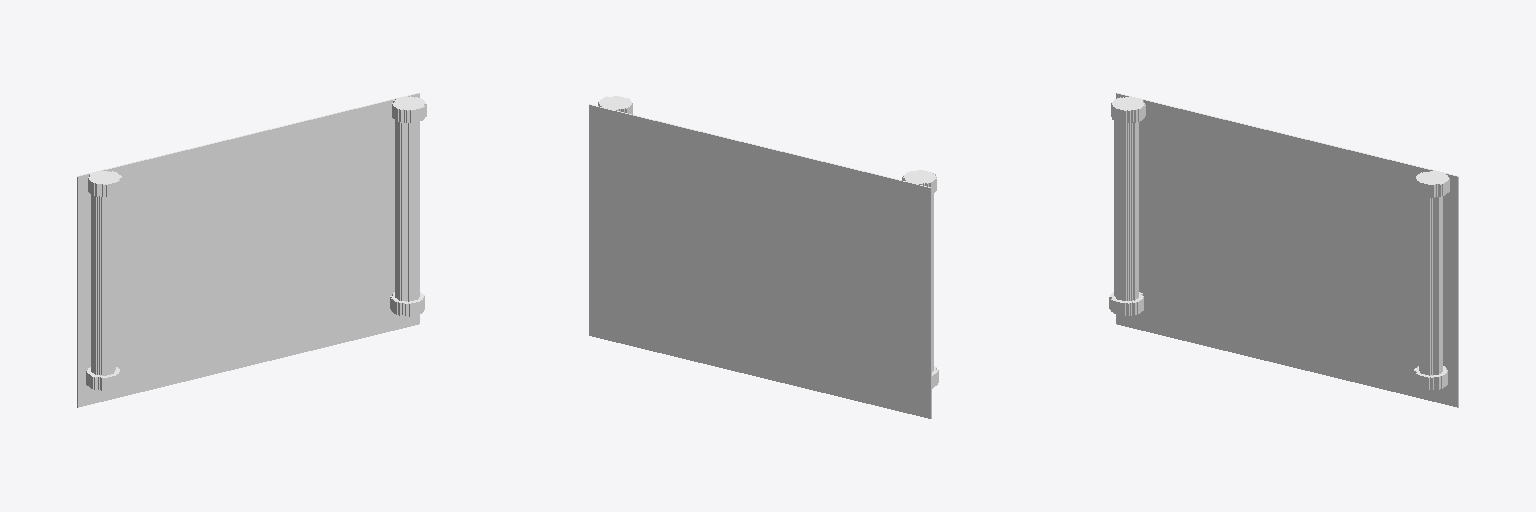
The model's file is Bar1-8.obj.
3 views of the same model, side by side, from view 1: azimuth 30°, elevation 25°; view 2: azimuth 150°, elevation 25°; view 3: azimuth 330°, elevation 25° (orthographic).
Visible parts, largest first — view 1: object 1; view 2: object 1; view 3: object 1.
Boxes of the visible parts, <box> form: object 1: <box>77,93,426,407</box>; object 1: <box>589,96,938,418</box>; object 1: <box>1109,93,1458,407</box>.
Size of the model in its own units: 25.4 by 16.4 by 2.1.